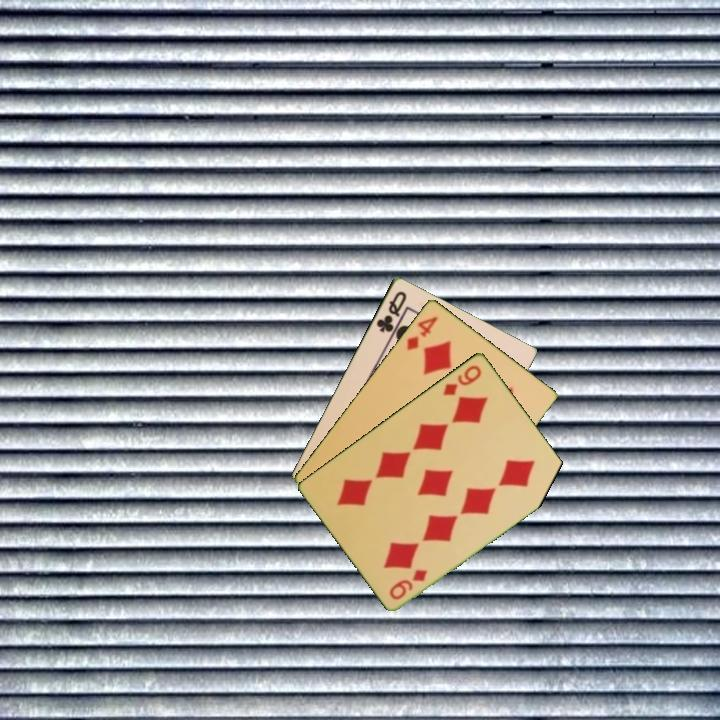4d: (403, 312, 440, 353)
9d: (439, 361, 484, 398), (386, 565, 430, 602)
Qc: (373, 287, 410, 335)
